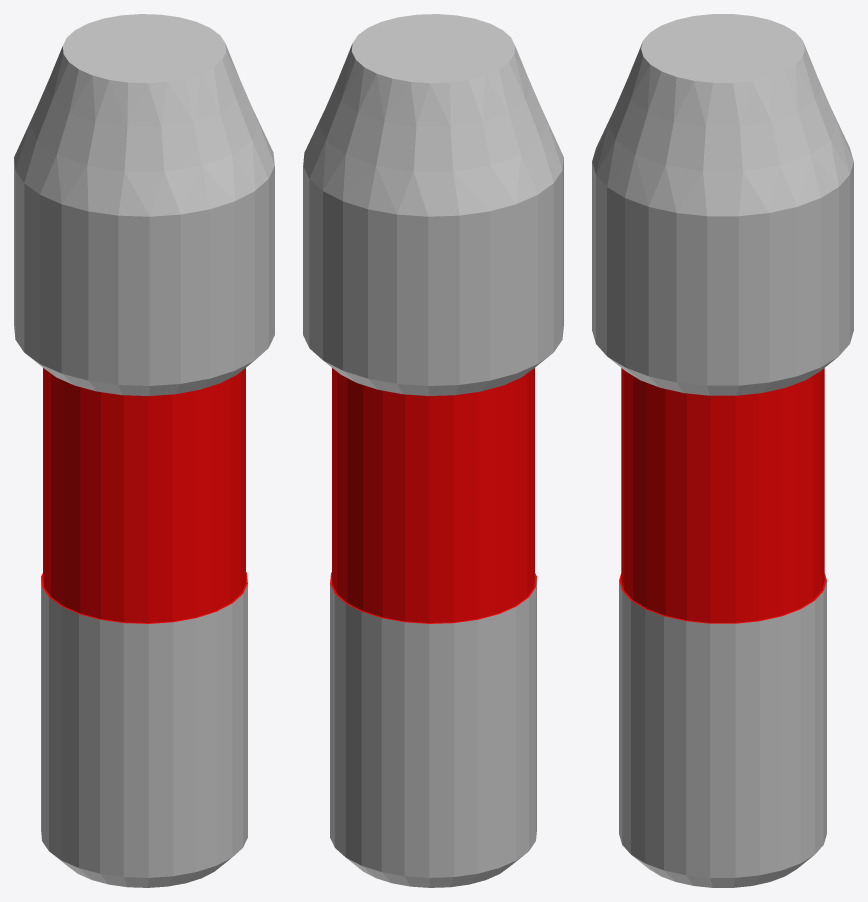
Rendered from 9_stp_3_6_7.obj.
3 views of the same model, side by side, from view 1: azimuth 30°, elevation 25°; view 2: azimuth 150°, elevation 25°; view 3: azimuth 270°, elevation 25° (orthographic).
Visible parts, largest first — view 1: Object1; view 2: Object1; view 3: Object1.
Boxes of the visible parts, x1,y1,x2,y2 form: Object1: (14,14,274,887); Object1: (303,14,563,887); Object1: (592,14,853,887).
Size of the model in its own units: 12.51 by 42.75 by 12.6.
